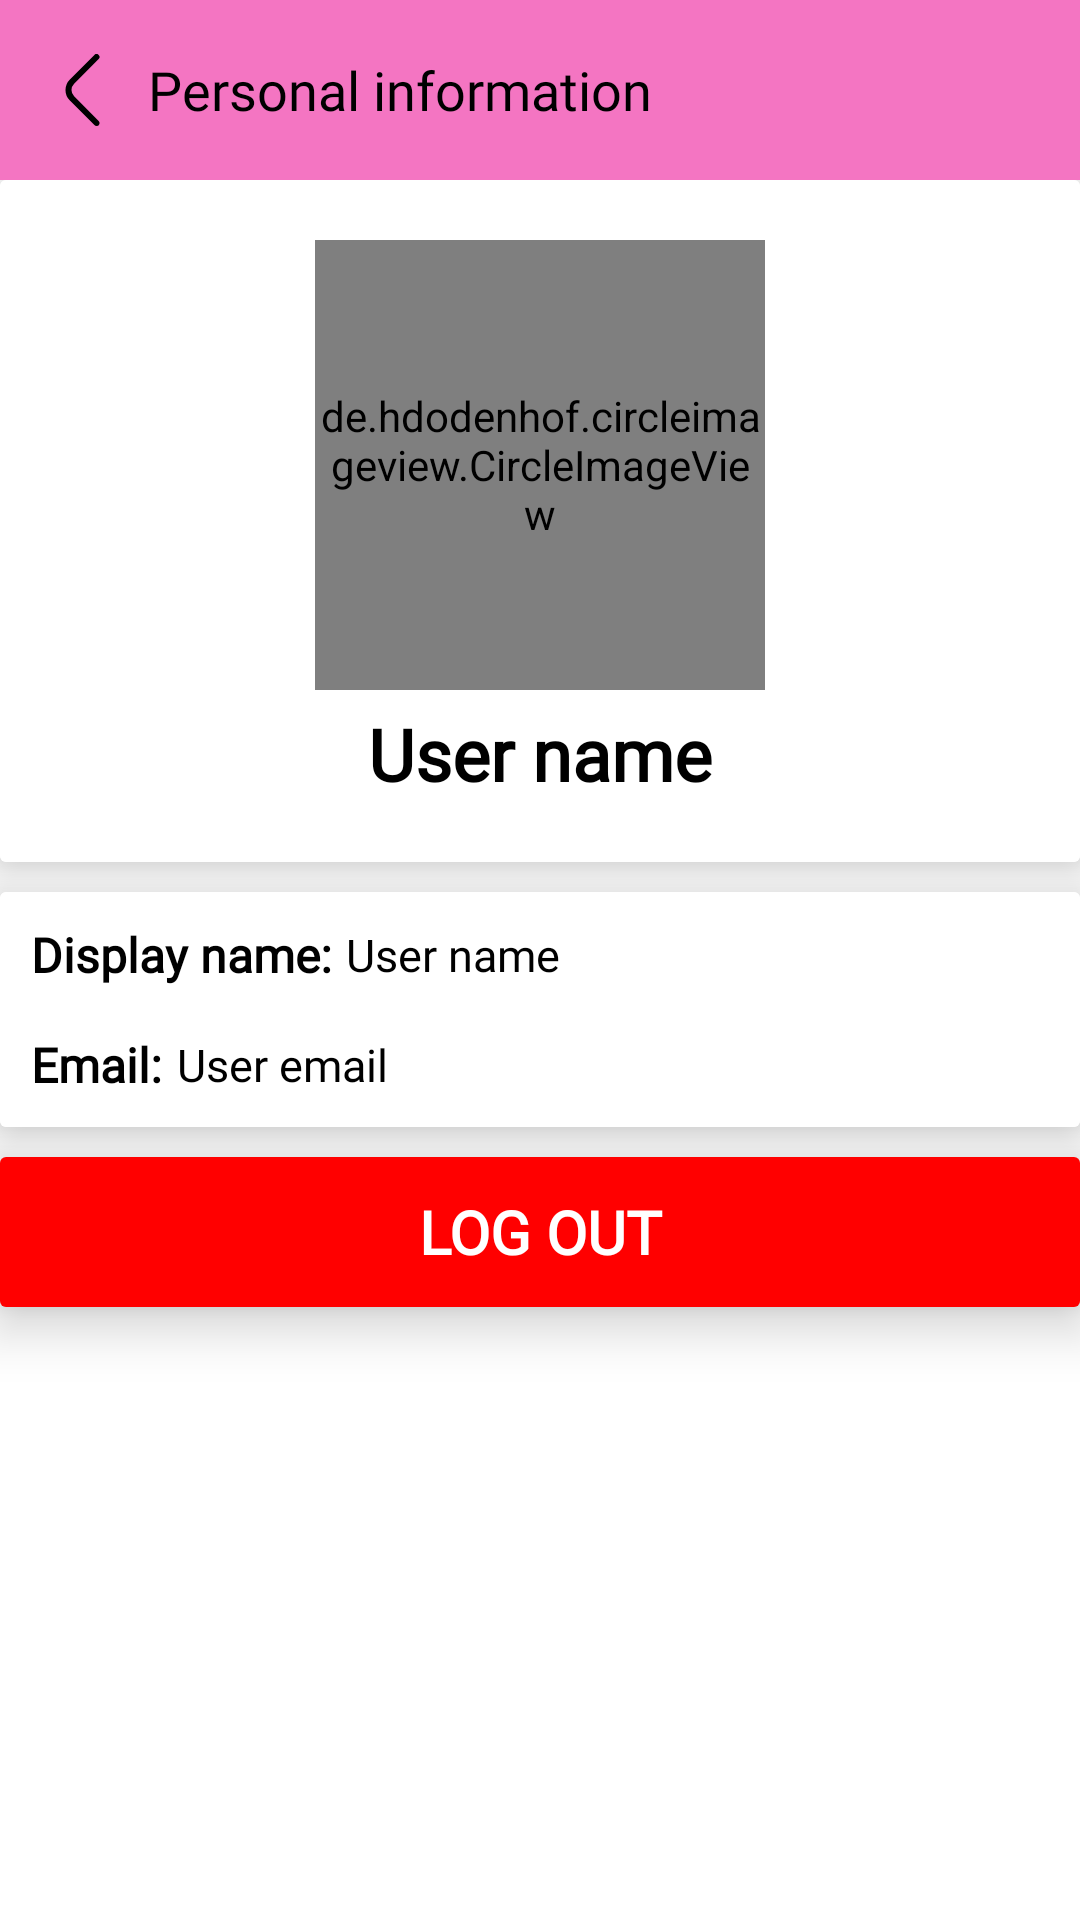

Icons on this 1080*1920 Android screen, each with its box as (x1, y1, x2, y2):
angle left: (65, 54, 100, 126)
